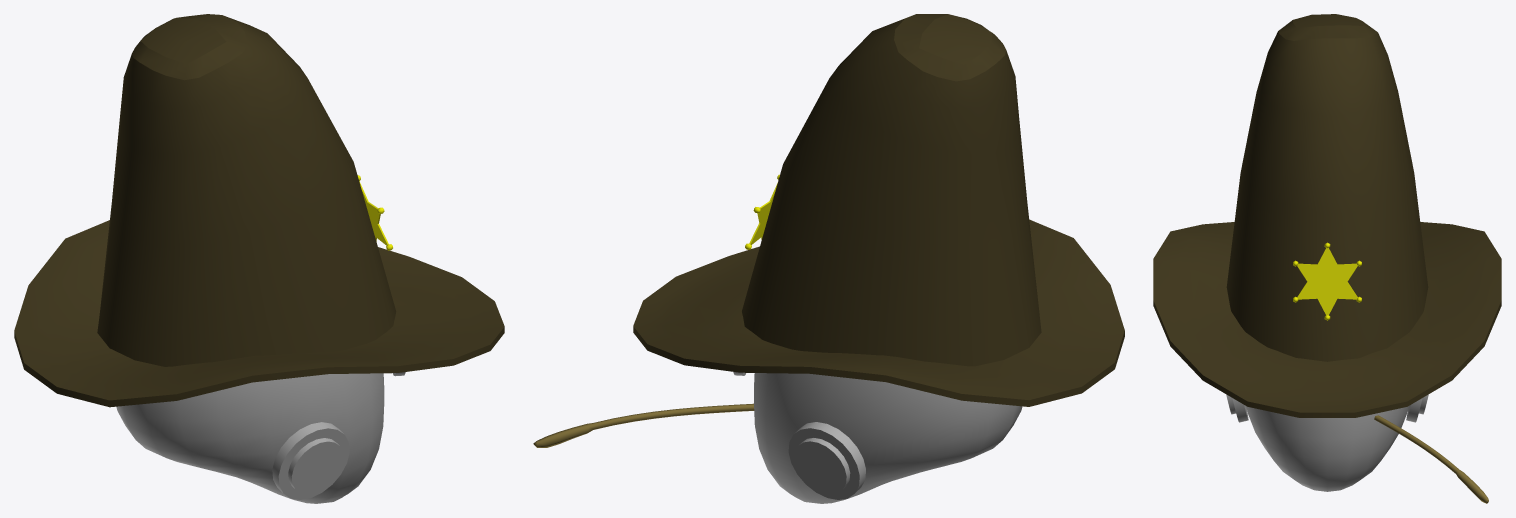
The model's file is SM_CowboyBot.fbx.
3 renders of one model, left to right at view 1: azimuth 30°, elevation 25°; view 2: azimuth 150°, elevation 25°; view 3: azimuth 270°, elevation 25°, orthographic. The views are drawn at different scales.
Parts seen in each view (by area): view 1: pCylinder8; view 2: pCylinder8; view 3: pCylinder8.
Boxes of the visible parts, <box> form: pCylinder8: <box>14,14,504,503</box>; pCylinder8: <box>533,14,1124,503</box>; pCylinder8: <box>1153,14,1501,503</box>.
Bounding box in the file's own units: 4308 × 4384 × 3312.
